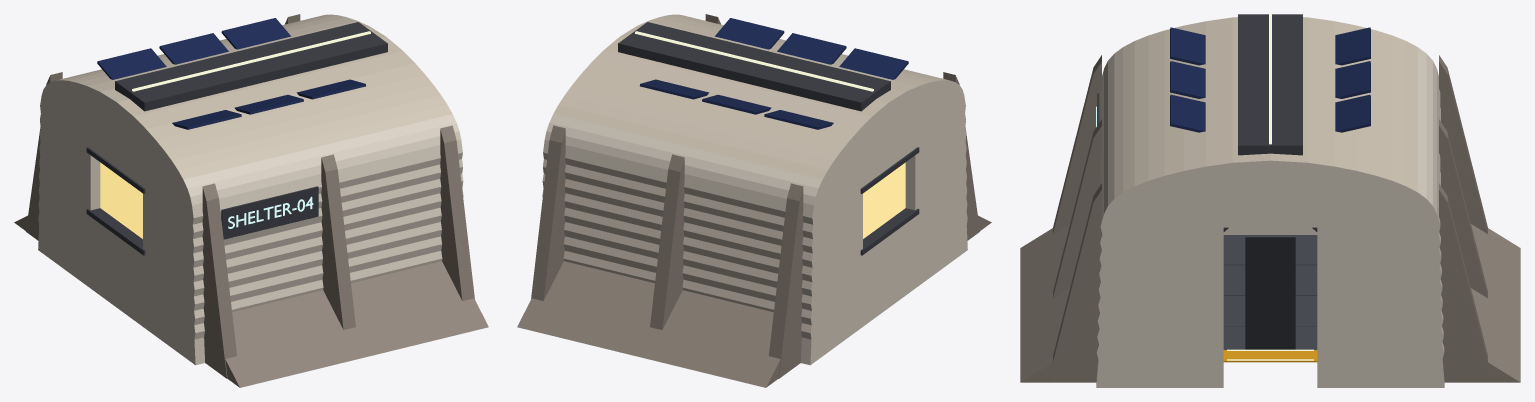
File: Shelter.fbx
3 renders of one model, left to right at view 1: azimuth 30°, elevation 25°; view 2: azimuth 150°, elevation 25°; view 3: azimuth 270°, elevation 25°, orthographic. The views are drawn at different scales.
Parts seen in each view (by area): view 1: Shelter solid, Shelter trim; view 2: Shelter solid, Shelter trim; view 3: Shelter solid, Shelter trim.
Part boxes in pixels (x1=…): Shelter solid: x1=14, y1=14, x2=488, y2=387; Shelter trim: x1=86, y1=18, x2=387, y2=255; Shelter solid: x1=517, y1=14, x2=991, y2=387; Shelter trim: x1=618, y1=18, x2=919, y2=255; Shelter solid: x1=1020, y1=17, x2=1520, y2=387; Shelter trim: x1=1096, y1=14, x2=1370, y2=362.
Size of the model in its own units: 4.79 by 3.62 by 6.92.
